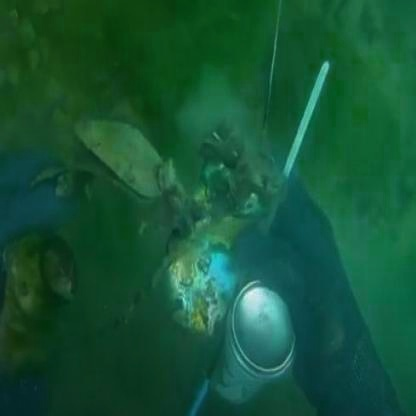can: (200, 274, 305, 382)
